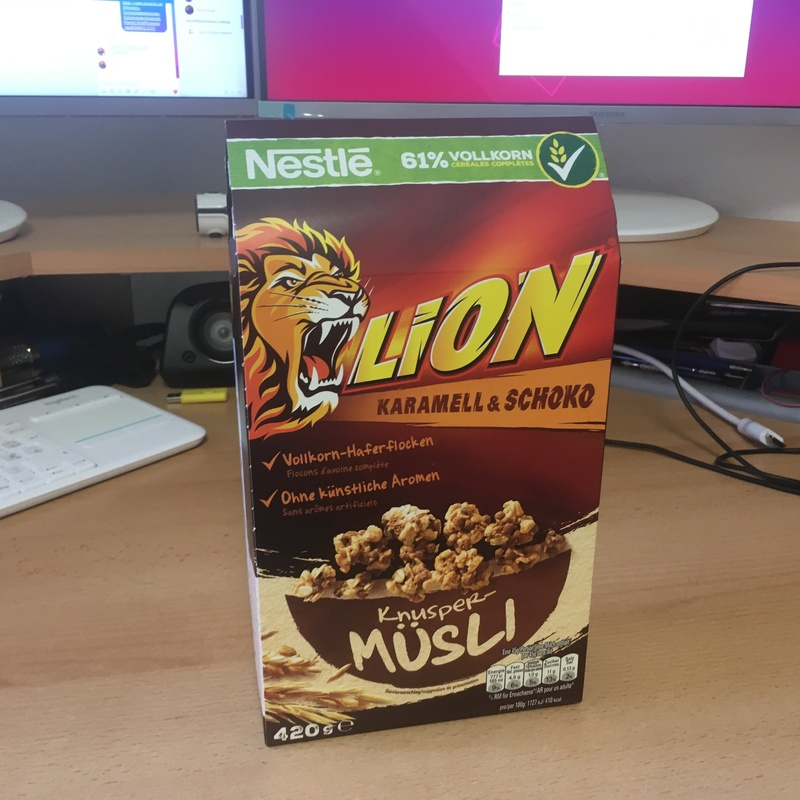cereals: (224, 118, 620, 752)
